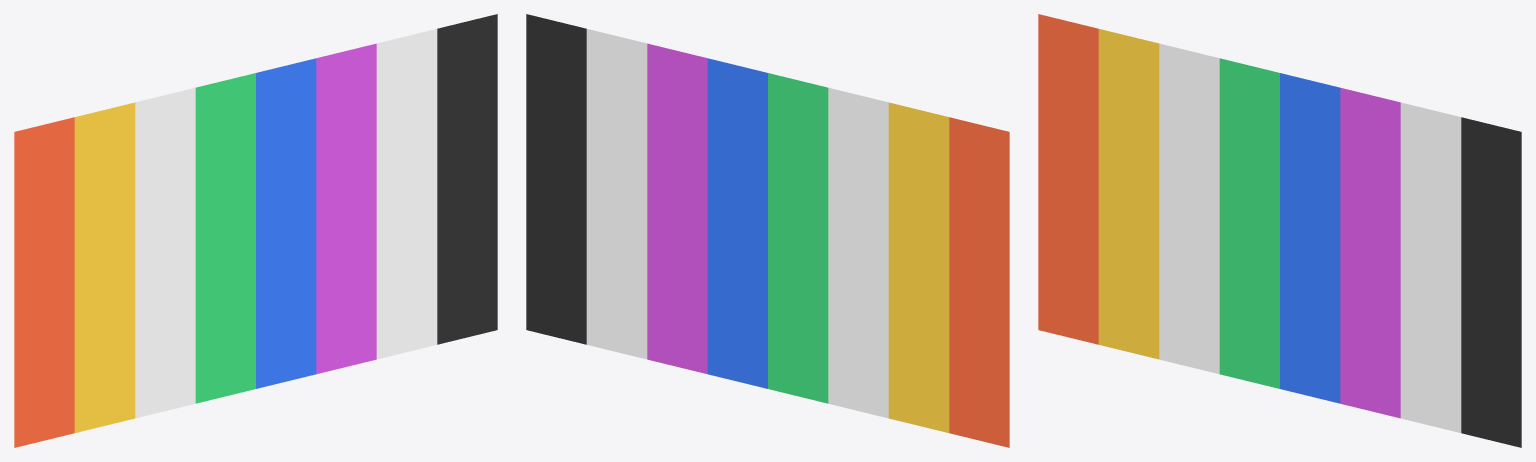
The model's file is color-target.gltf.
3 views of the same model, side by side, from view 1: azimuth 30°, elevation 25°; view 2: azimuth 150°, elevation 25°; view 3: azimuth 330°, elevation 25° (orthographic).
Parts seen in each view (by area): view 1: Target; view 2: Target; view 3: Target.
Part boxes in pixels (<box>): Target: <box>14,14,497,447</box>; Target: <box>526,14,1009,447</box>; Target: <box>1038,14,1521,447</box>.
Size of the model in its own units: 8 by 5 by 0.
